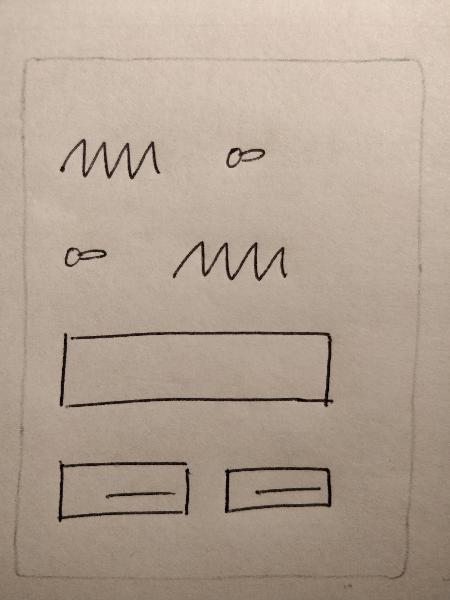button: (47, 453, 200, 525), (217, 460, 349, 519)
switch: (53, 233, 120, 279), (214, 141, 284, 176)
text: (164, 229, 310, 287), (46, 126, 172, 186)
text_input: (49, 324, 344, 414)
